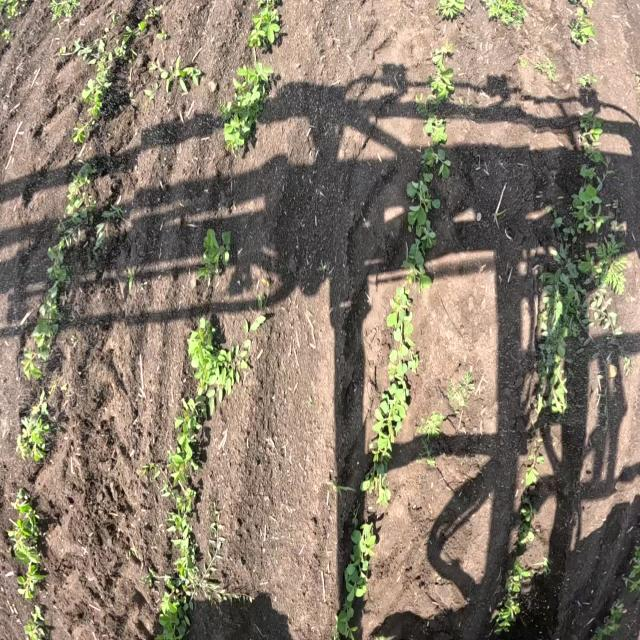plants: (529, 236, 627, 436), (186, 298, 269, 399), (220, 51, 278, 156), (204, 516, 251, 618), (155, 453, 206, 530), (368, 361, 414, 441), (57, 171, 98, 244), (16, 398, 59, 467), (342, 526, 382, 599), (173, 393, 215, 456), (424, 49, 458, 126), (194, 219, 238, 278), (148, 53, 206, 96), (6, 496, 48, 554), (151, 586, 195, 640), (384, 292, 419, 358), (242, 0, 286, 51), (362, 455, 398, 516), (400, 230, 439, 286), (413, 128, 454, 178), (63, 36, 116, 74), (502, 552, 551, 590), (403, 178, 440, 228), (80, 67, 114, 121), (571, 187, 608, 236), (166, 532, 202, 582), (44, 251, 76, 304), (122, 6, 169, 42), (562, 0, 596, 49), (479, 0, 532, 31), (27, 307, 61, 353), (575, 106, 609, 150), (491, 593, 523, 638), (594, 597, 626, 640), (621, 536, 640, 604), (512, 503, 540, 549), (520, 439, 545, 490), (13, 559, 46, 597), (576, 151, 612, 185), (336, 594, 362, 640), (20, 602, 50, 640), (46, 0, 86, 28), (435, 0, 468, 28), (18, 351, 41, 386), (535, 53, 559, 83), (574, 67, 599, 93), (104, 198, 126, 225), (71, 123, 88, 153), (0, 0, 28, 17), (124, 266, 140, 294), (1, 23, 13, 48), (517, 56, 530, 72)
